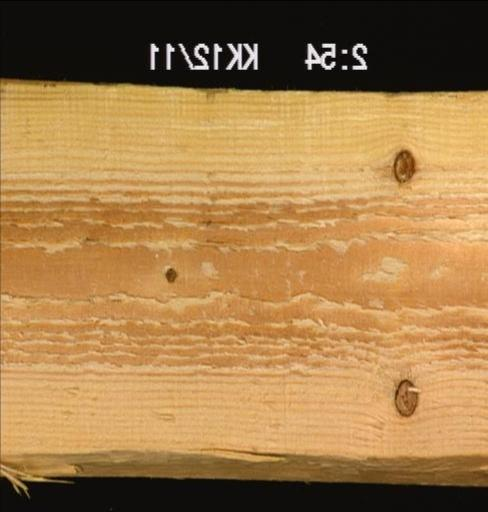dry_knot: (391, 375, 421, 418), (389, 146, 418, 183), (162, 262, 180, 285)
wave: (0, 442, 486, 483)
